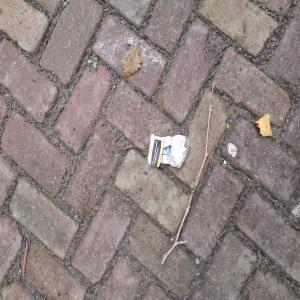Trash: (148, 128, 192, 176)
